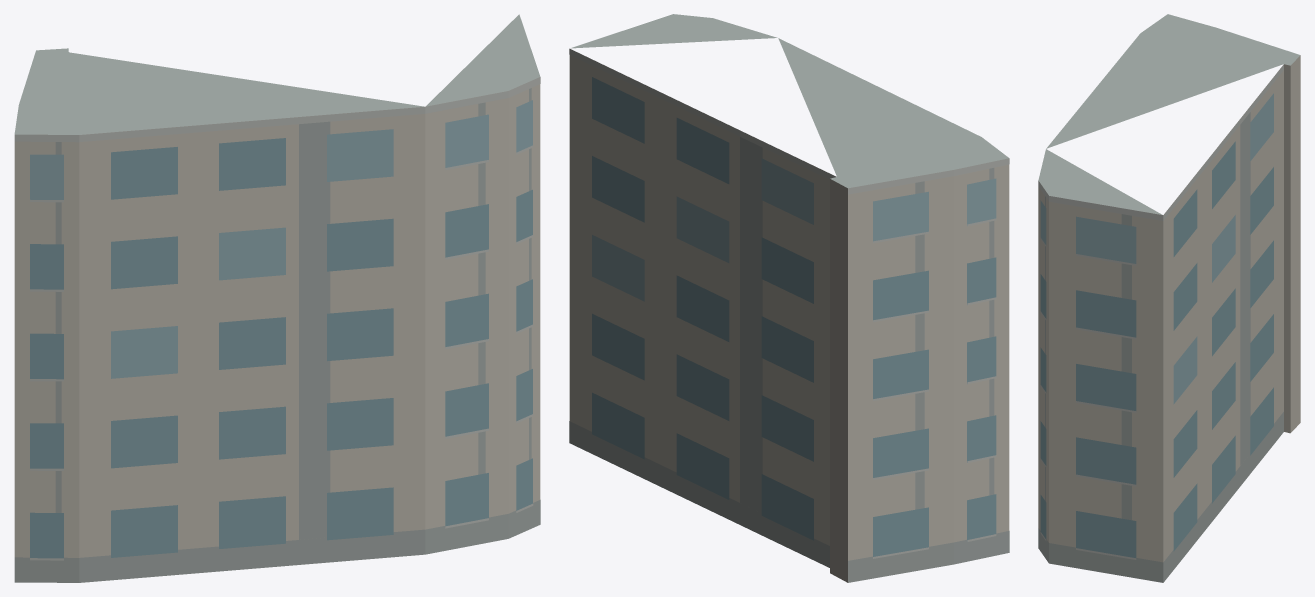
Rendered from survey-upis-32788322.glb.
3 views of the same model, side by side, from view 1: azimuth 30°, elevation 25°; view 2: azimuth 150°, elevation 25°; view 3: azimuth 270°, elevation 25° (orthographic). The views are drawn at different scales.
Visible parts, largest first — view 1: survey-upis-32788322.tmp; view 2: survey-upis-32788322.tmp; view 3: survey-upis-32788322.tmp.
Boxes of the visible parts, <box> form: survey-upis-32788322.tmp: <box>14,14,540,582</box>; survey-upis-32788322.tmp: <box>569,14,1009,582</box>; survey-upis-32788322.tmp: <box>1038,14,1300,582</box>.
Size of the model in its own units: 17.9 by 15.25 by 9.87.
